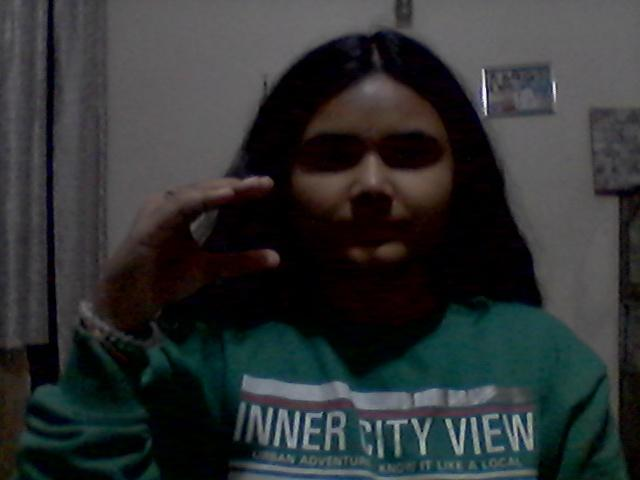no: (80, 168, 282, 342)
